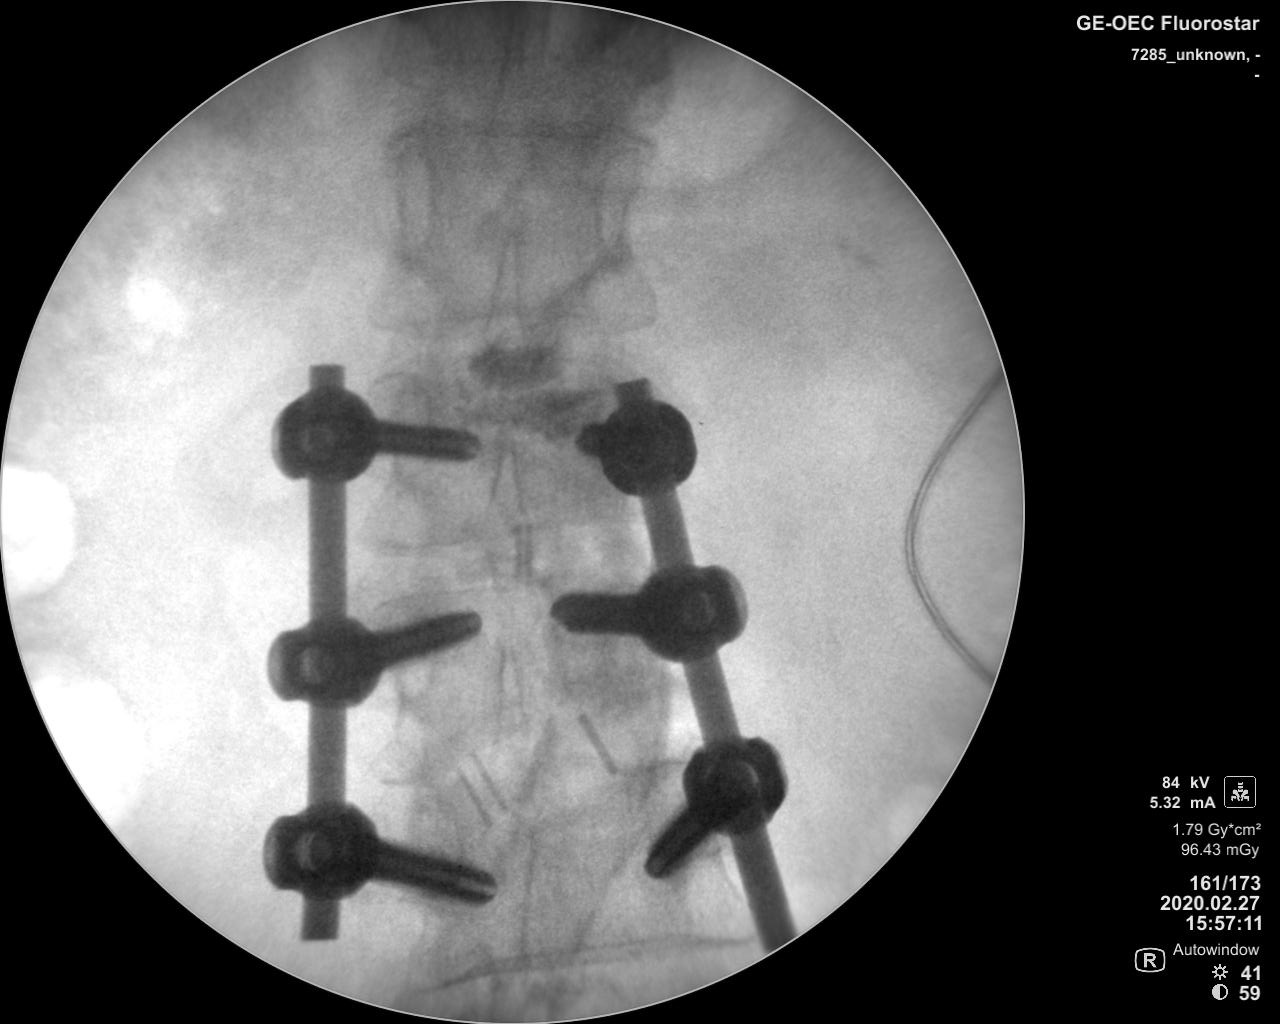eyes: (388, 379, 435, 479), (394, 146, 437, 255), (385, 611, 434, 698), (592, 149, 630, 252)
line: (410, 928, 752, 992), (360, 504, 632, 560), (385, 110, 654, 150), (366, 310, 656, 336)
nose: (481, 31, 538, 185), (484, 427, 536, 584), (481, 223, 527, 357), (489, 636, 530, 784)
